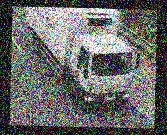truck: (24, 7, 142, 110)
